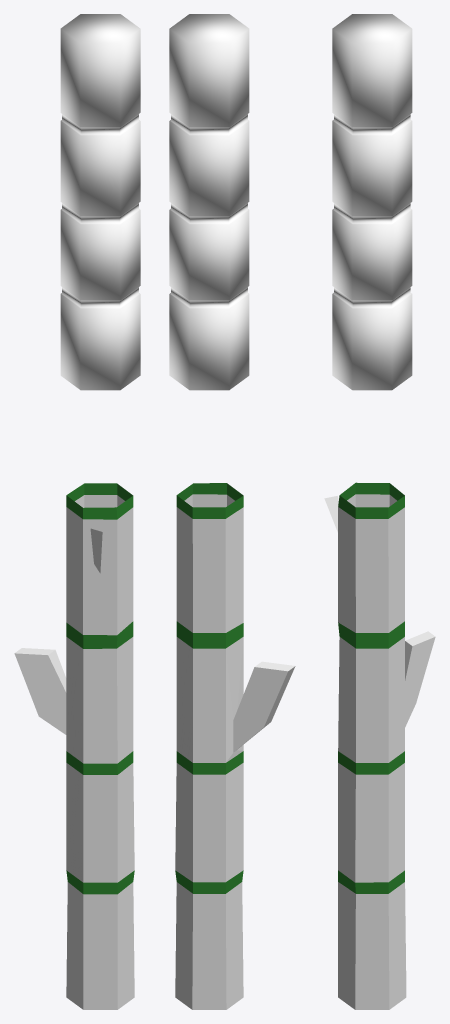
Rendered from harvested_sugarcane.glb.
The picture shows the model from 3 angles, left to right: view 1: azimuth 30°, elevation 25°; view 2: azimuth 210°, elevation 25°; view 3: azimuth 270°, elevation 25°; orthographic projection.
Visible parts, largest first — view 1: Cylinder.001, Cylinder; view 2: Cylinder.001, Cylinder; view 3: Cylinder.001, Cylinder.
Part boxes in pixels (x1=…): Cylinder.001: x1=14, y1=483, x2=134, y2=1009; Cylinder: x1=60, y1=14, x2=140, y2=390; Cylinder.001: x1=175, y1=483, x2=295, y2=1009; Cylinder: x1=169, y1=14, x2=249, y2=390; Cylinder.001: x1=324, y1=482, x2=435, y2=1009; Cylinder: x1=332, y1=14, x2=412, y2=390.
Bounding box in the file's own units: 1.16 × 12.13 × 1.26.
